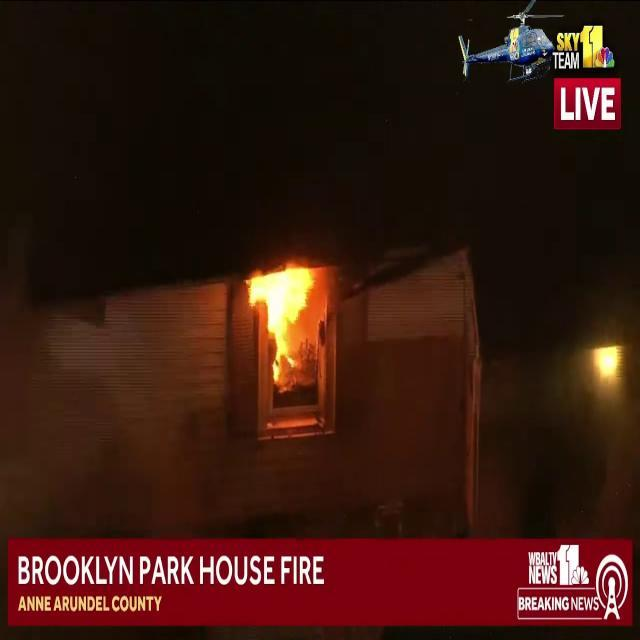Fire: (236, 256, 330, 380)
